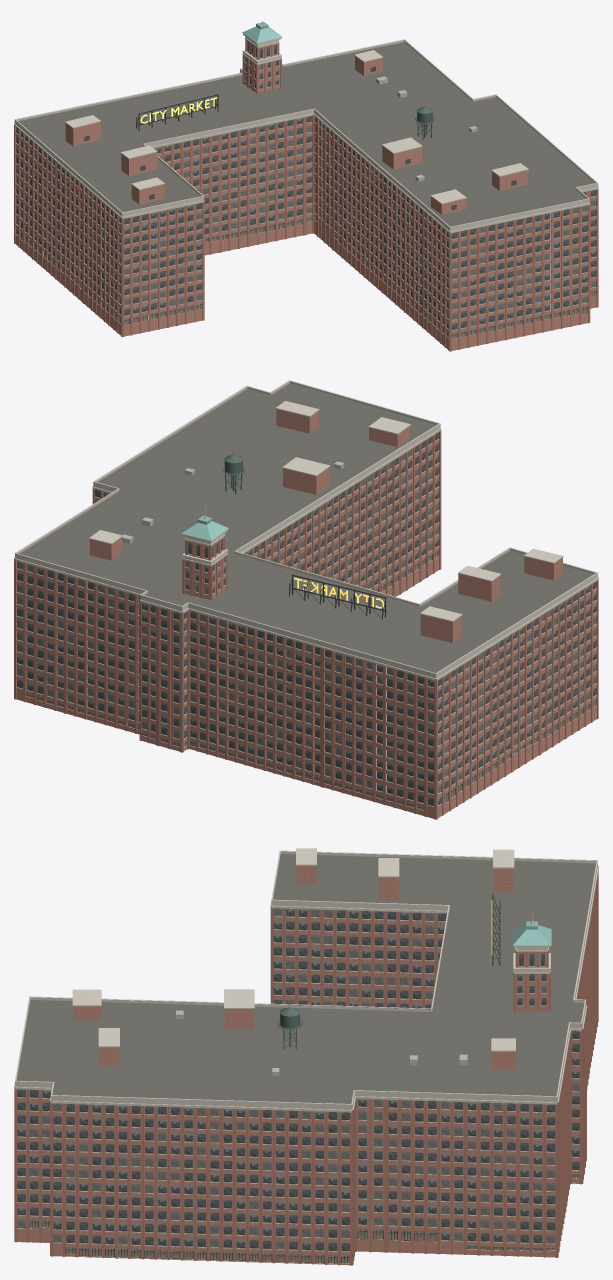
File: ponce-city-market.glb
The picture shows the model from 3 angles, top to bottom: view 1: azimuth 30°, elevation 25°; view 2: azimuth 150°, elevation 25°; view 3: azimuth 270°, elevation 25°; orthographic projection. The views are drawn at different scales.
Parts seen in each view (by area): view 1: ponce-city-market_lod0; view 2: ponce-city-market_lod0; view 3: ponce-city-market_lod0.
Boxes of the visible parts, x1,y1,x2,y2 form: ponce-city-market_lod0: [14, 21, 598, 351]; ponce-city-market_lod0: [14, 380, 598, 819]; ponce-city-market_lod0: [14, 848, 598, 1265].
Size of what is drawn, in the model's own units: 184 by 84.12 by 178.
Materials: 13 (7 with a texture image).
